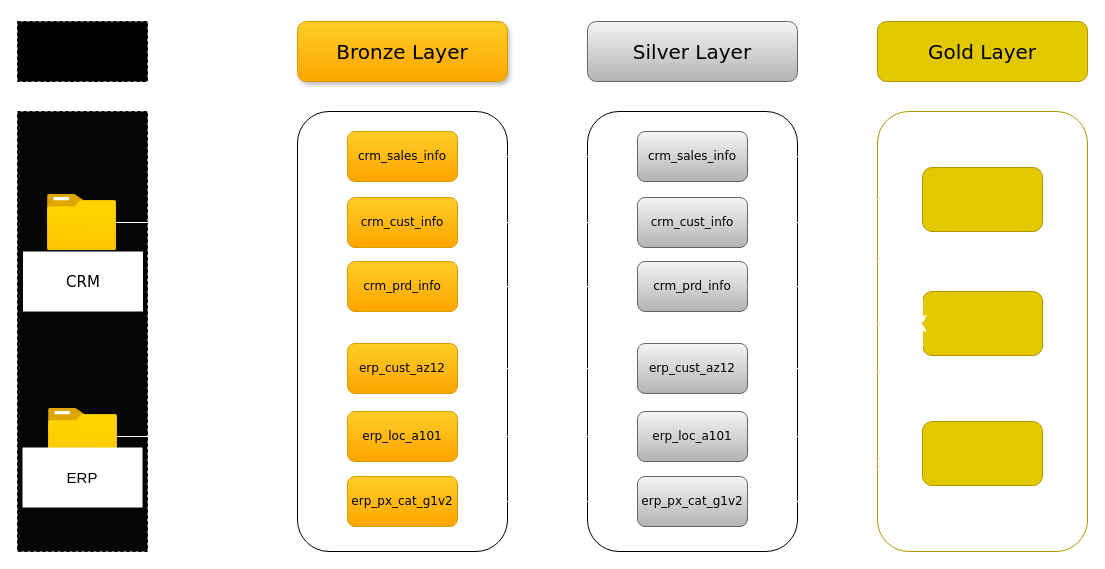
The diagram is 1105 pixels wide and 569 high, and some of its shapes have lost their labels. Here are the shapes that lost their labels. From the top down, the centre of each, then its label:
point 982,199: fact_sales
point 982,323: dim_customers
point 982,453: dim_products
